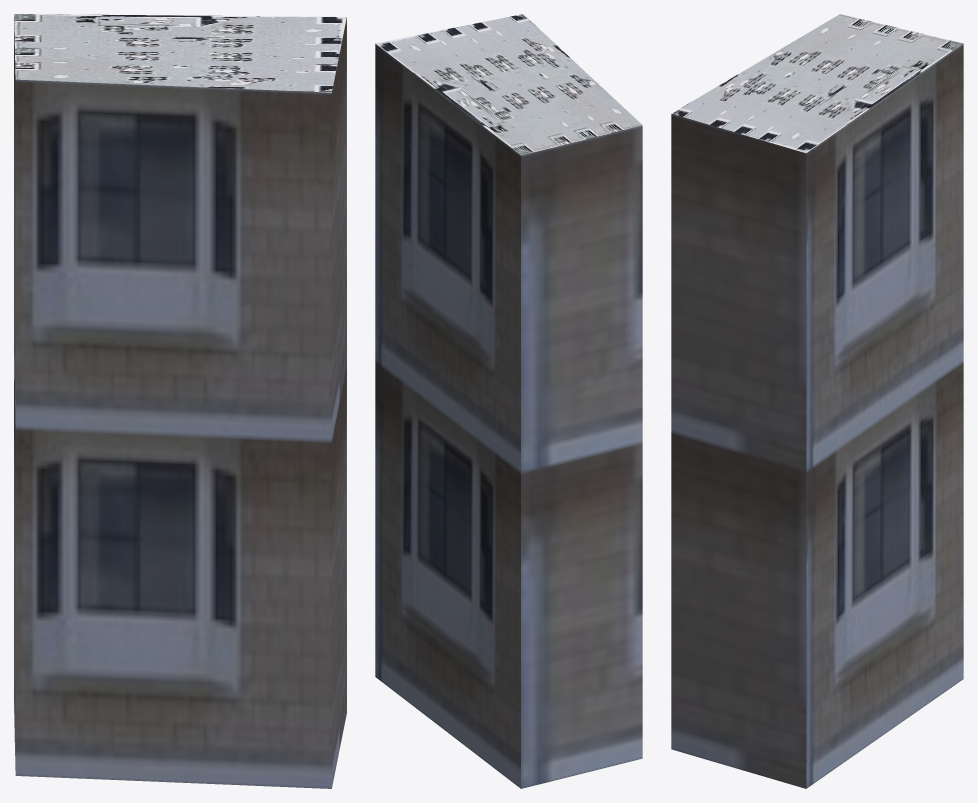
The model's file is ResTex__4273.fbx.
3 renders of one model, left to right at view 1: azimuth 30°, elevation 25°; view 2: azimuth 150°, elevation 25°; view 3: azimuth 270°, elevation 25°, orthographic. The views are drawn at different scales.
Visible parts, largest first — view 1: CityEngineMaterial_3_m, CityEngineMaterial_m; view 2: CityEngineMaterial_3_m, CityEngineMaterial_m; view 3: CityEngineMaterial_3_m, CityEngineMaterial_m.
Boxes of the visible parts, left/top/right/bottom form: CityEngineMaterial_3_m: left=14, top=17, right=346, bottom=788; CityEngineMaterial_m: left=14, top=14, right=346, bottom=92; CityEngineMaterial_3_m: left=375, top=44, right=642, bottom=788; CityEngineMaterial_m: left=375, top=14, right=642, bottom=155; CityEngineMaterial_3_m: left=671, top=43, right=963, bottom=788; CityEngineMaterial_m: left=671, top=14, right=963, bottom=152.
Bounding box in the file's own units: 2.82 × 6 × 2.5.
Materials: 2 (2 with a texture image).
